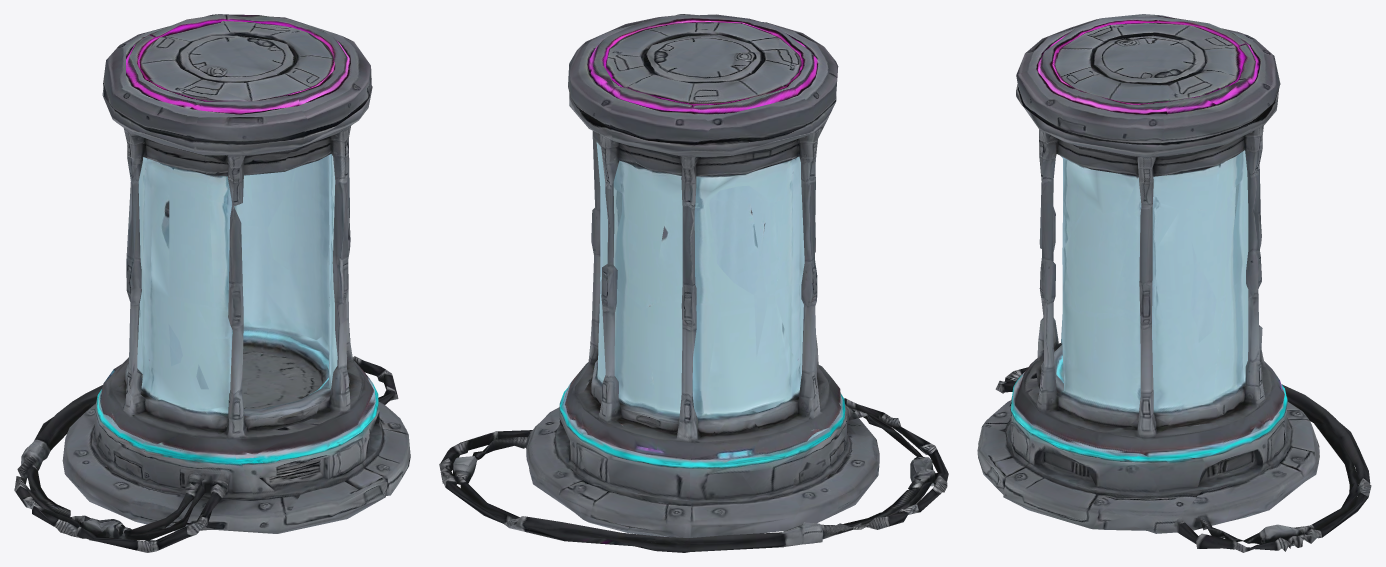
Rendered from prop-pod.glb.
3 views of the same model, side by side, from view 1: azimuth 30°, elevation 25°; view 2: azimuth 150°, elevation 25°; view 3: azimuth 270°, elevation 25° (orthographic). The views are drawn at different scales.
Parts seen in each view (by area): view 1: body; view 2: body; view 3: body.
Part boxes in pixels (bbox=[...]): body: bbox=[14, 14, 410, 552]; body: bbox=[439, 14, 948, 552]; body: bbox=[977, 14, 1371, 552].
Bounding box in the file's own units: 1.05 × 0.9958 × 0.8769.
Materials: 1 (1 with a texture image).
